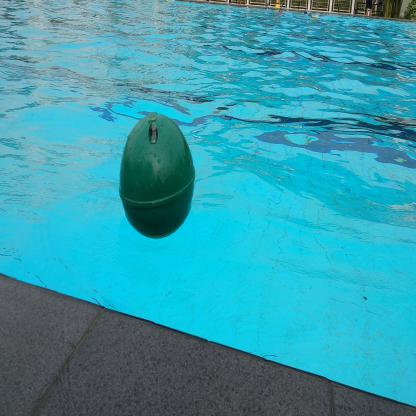green_buoy: (114, 105, 200, 245)
